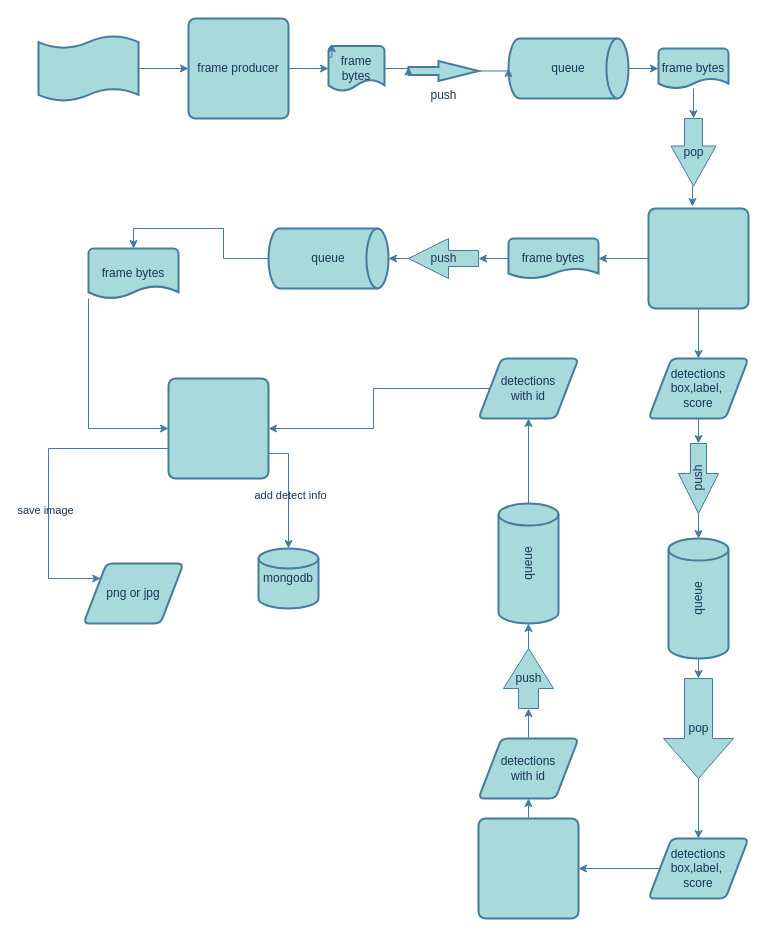
The diagram is 767 pixels wide and 936 high, and some of its shapes have lost their labels. The shapes that lost their labels are listed below. From the top down, each one's centre as x and y in pixels, then its label:
At [88,68]: "video source".
At [698,258]: "inference".
At [218,428]: "notify".
At [528,868]: "tracking".
